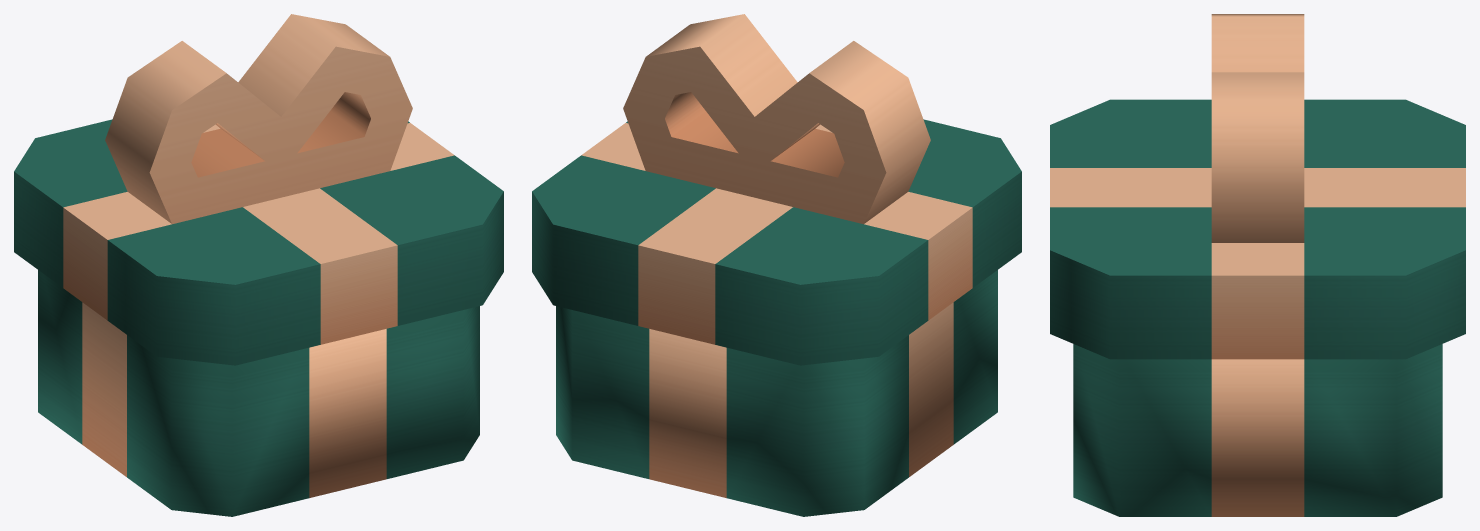
Rendered from present_green_cube.glb.
3 views of the same model, side by side, from view 1: azimuth 30°, elevation 25°; view 2: azimuth 150°, elevation 25°; view 3: azimuth 270°, elevation 25° (orthographic). The views are drawn at different scales.
Parts seen in each view (by area): view 1: present-b-cube; view 2: present-b-cube; view 3: present-b-cube.
Part boxes in pixels (x1=…): present-b-cube: x1=14, y1=14, x2=503, y2=516; present-b-cube: x1=532, y1=14, x2=1021, y2=516; present-b-cube: x1=1050, y1=14, x2=1465, y2=516.
Size of the model in its own units: 0.45 by 0.4707 by 0.45.
Materials: 1 (1 with a texture image).
